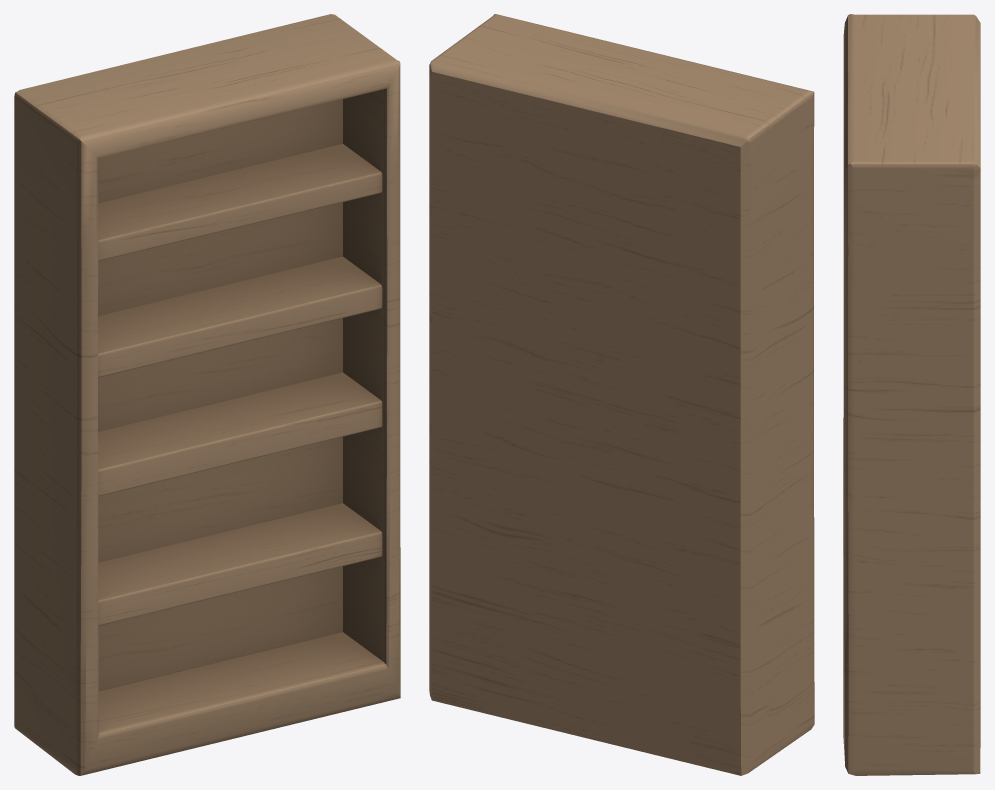
File: Boekenkast.fbx
3 views of the same model, side by side, from view 1: azimuth 30°, elevation 25°; view 2: azimuth 150°, elevation 25°; view 3: azimuth 270°, elevation 25° (orthographic). The views are drawn at different scales.
Visible parts, largest first — view 1: BoekenKast; view 2: BoekenKast; view 3: BoekenKast.
Boxes of the visible parts, left/top/right/bottom form: BoekenKast: left=14, top=14, right=400, bottom=775; BoekenKast: left=429, top=14, right=814, bottom=775; BoekenKast: left=843, top=14, right=980, bottom=775.
Bounding box in the file's own units: 120 × 228 × 46.19.
Materials: 1 (1 with a texture image).
